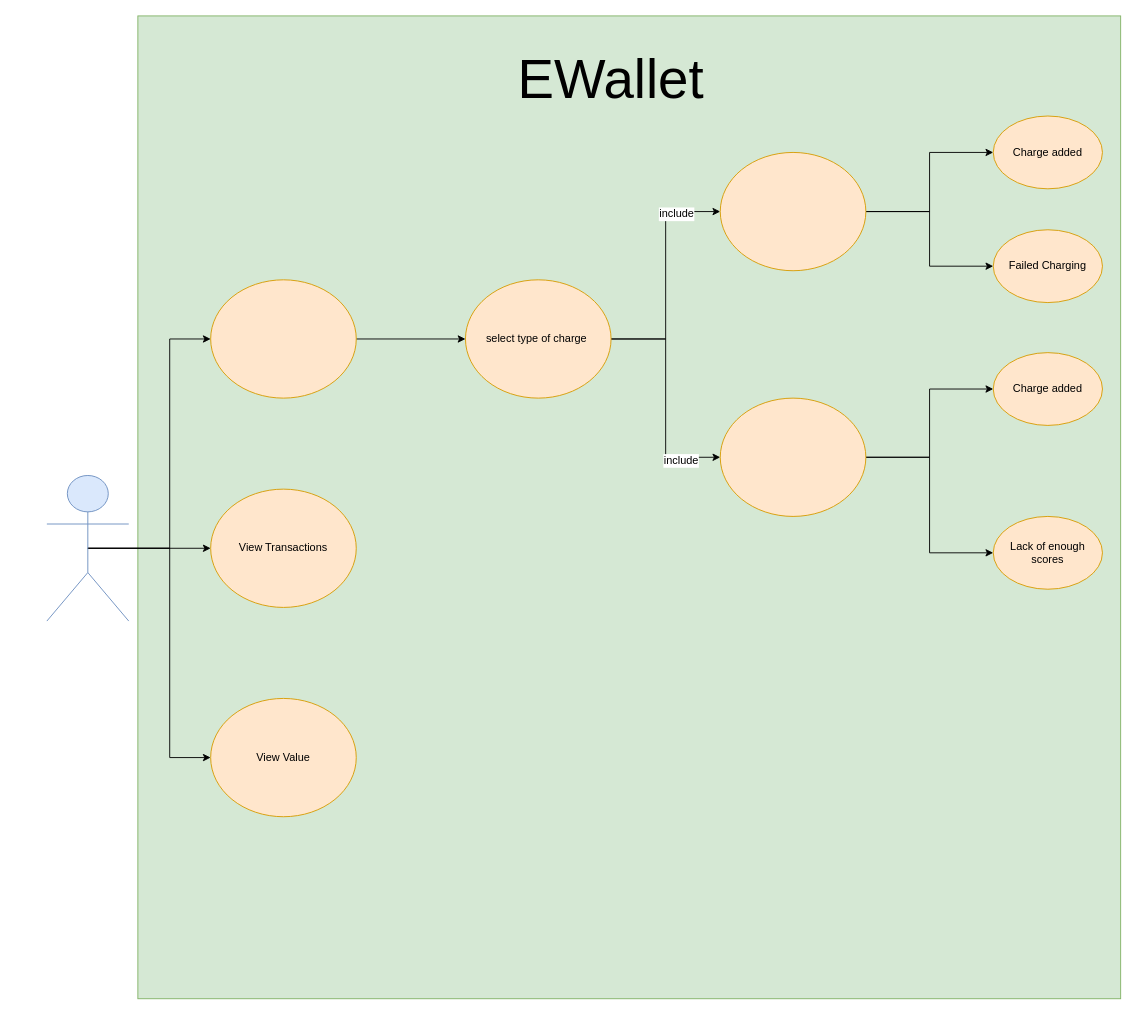
Image size: 1137x1015. Some labels were removed from this diagram. Each missing label, with the centre of its shape:
"Charging with credit card and selecting value of charging" goes at point (792, 211).
"Charging with scores and selecting package" goes at point (792, 456).
"Logged in user" goes at point (87, 548).
"Request for Charge E wallet" goes at point (283, 338).
